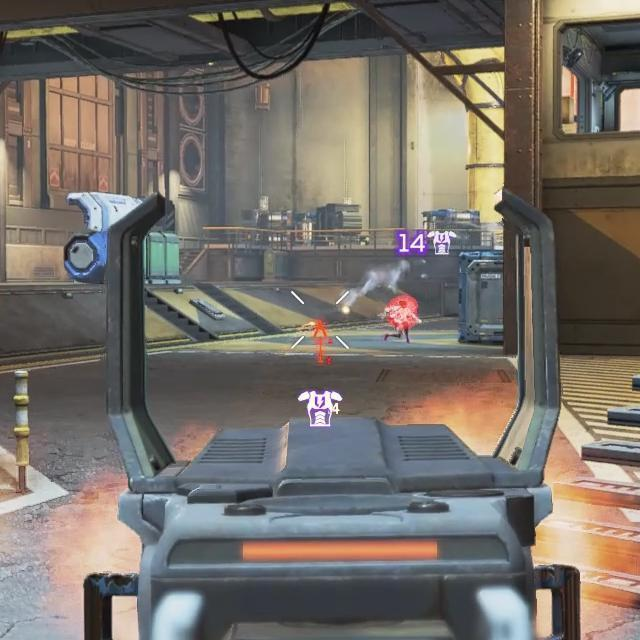avatar: (376, 299, 424, 344)
object: (386, 292, 421, 332)
